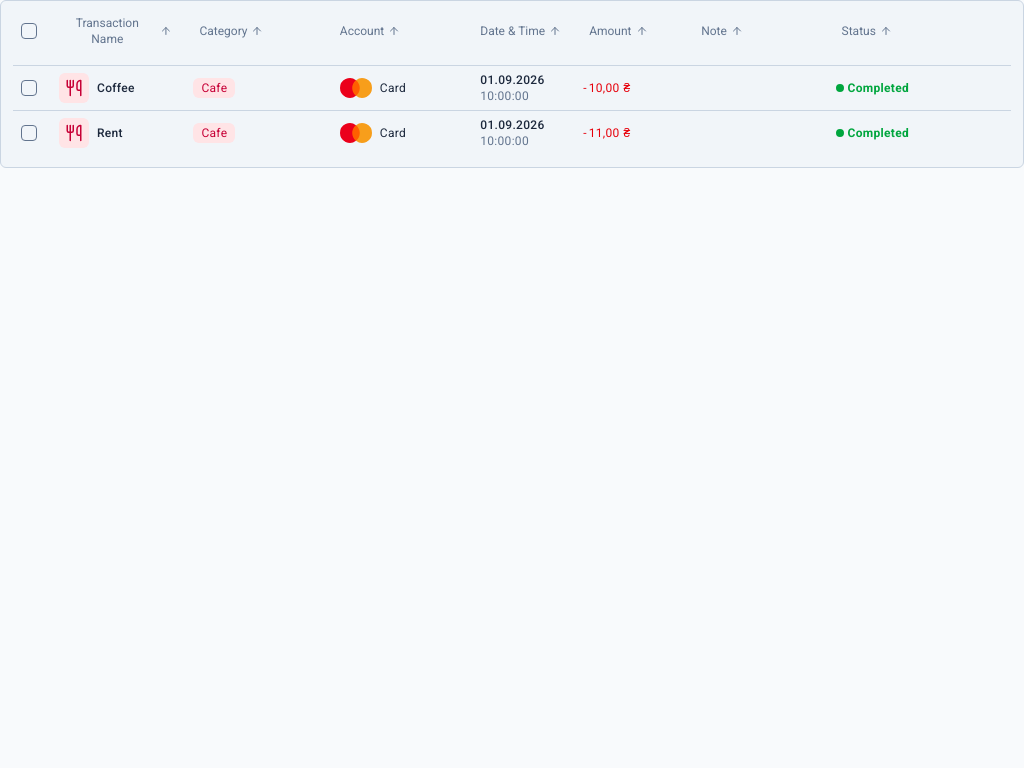
TransactionsList › keeps the bulk toolbar out of the table once a row is selected
Click the checkbox next to "Coffee" at (29, 88), box [21,80,37,96]
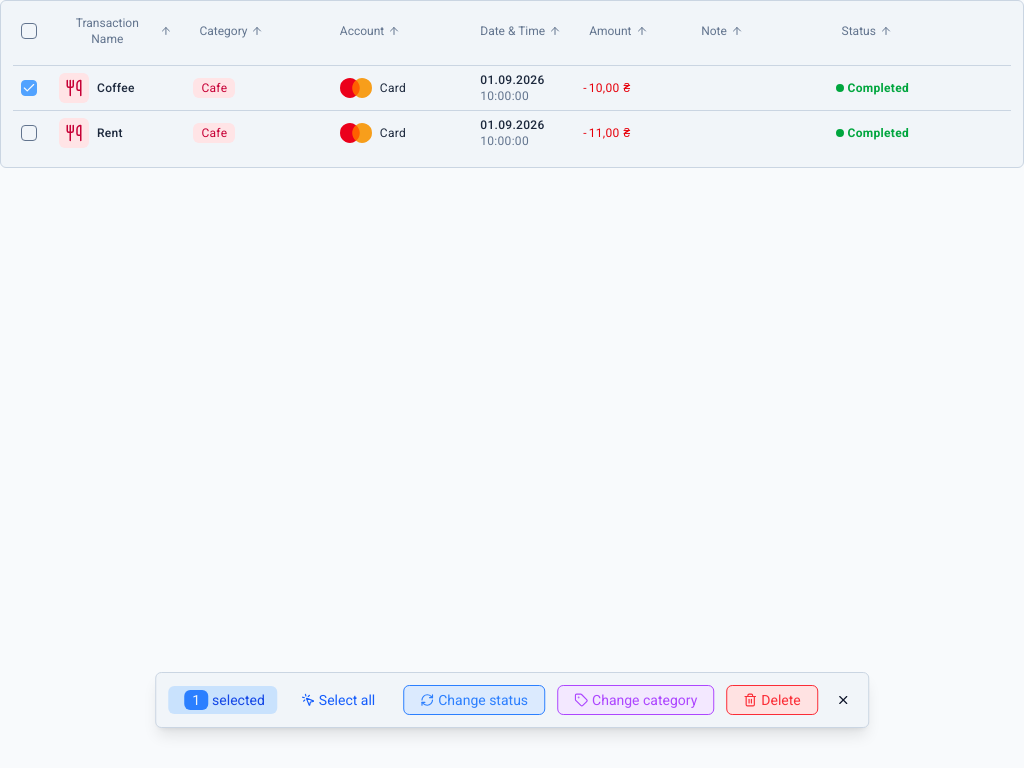
Now the button named "Clear selection" is shown, box [830,687,856,713]
